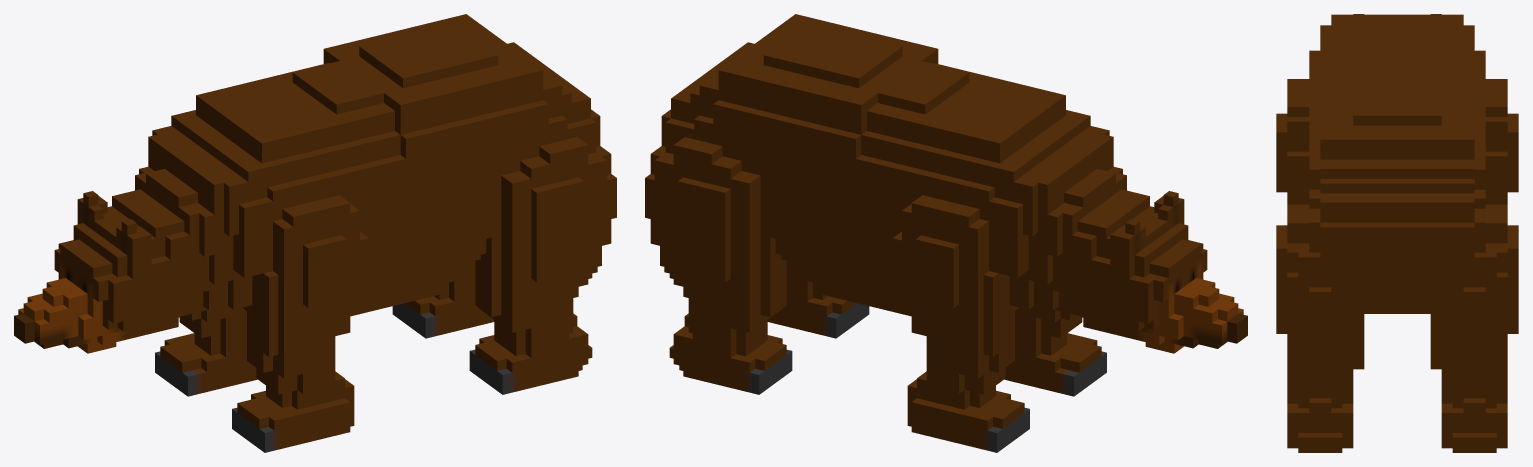
Rendered from bear.fbx.
3 renders of one model, left to right at view 1: azimuth 30°, elevation 25°; view 2: azimuth 150°, elevation 25°; view 3: azimuth 270°, elevation 25°, orthographic.
Visible parts, largest first — view 1: bear; view 2: bear; view 3: bear.
Boxes of the visible parts, x1,y1,x2,y2 form: bear: (14,14,616,452); bear: (645,14,1247,452); bear: (1276,14,1518,452).
Size of the model in its own units: 58 by 31 by 22.
1 material, 1 textured.
